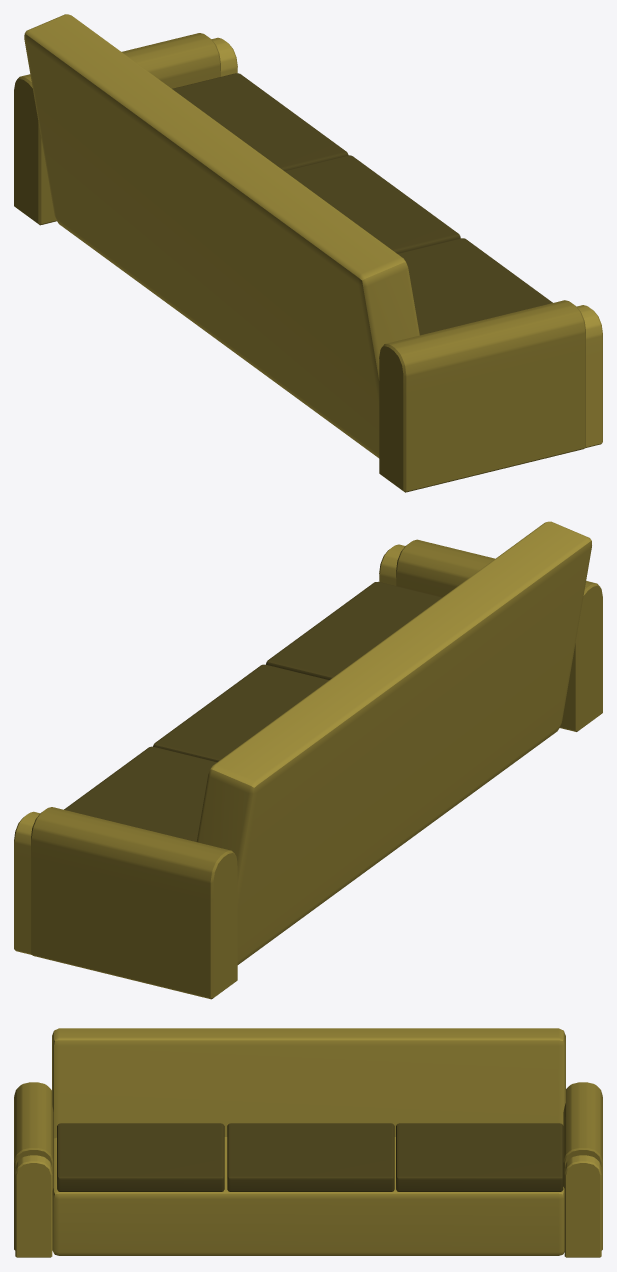
Rendered from Couch_80s_v1.fbx.
3 renders of one model, top to bottom at view 1: azimuth 30°, elevation 25°; view 2: azimuth 150°, elevation 25°; view 3: azimuth 270°, elevation 25°, orthographic. The views are drawn at different scales.
Parts seen in each view (by area): view 1: U_Couch_80s; view 2: U_Couch_80s; view 3: U_Couch_80s.
Part boxes in pixels (box(x1,y1,x2,y2)): U_Couch_80s: box(14, 14, 602, 492); U_Couch_80s: box(14, 521, 602, 999); U_Couch_80s: box(14, 1028, 602, 1257).
Size of the model in its own units: 8.3 by 7.62 by 25.77.
